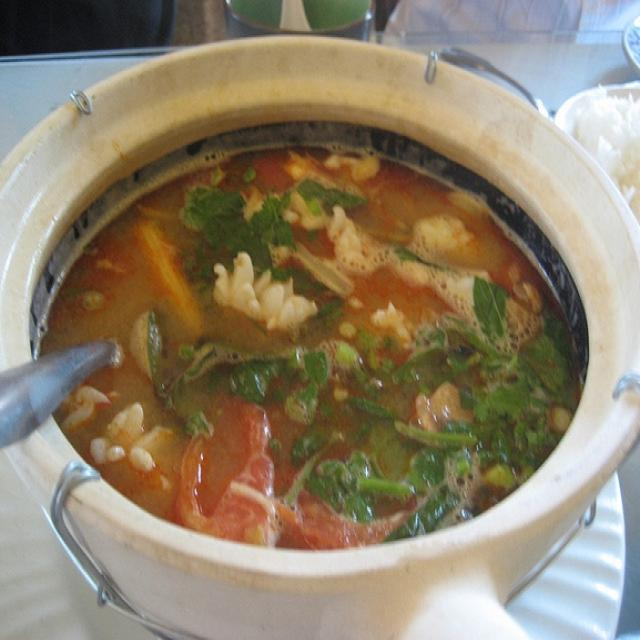汤锅炖物: (6, 31, 626, 624)
